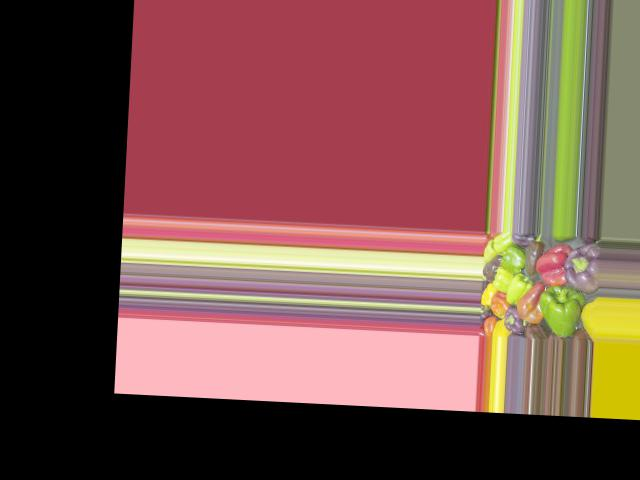bell_pepper: (499, 306, 525, 335)
